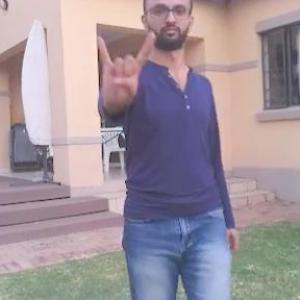takeoff-hand: (86, 25, 162, 120)
